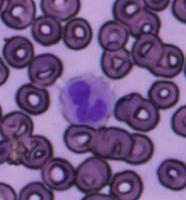N: (58, 73, 114, 127)
